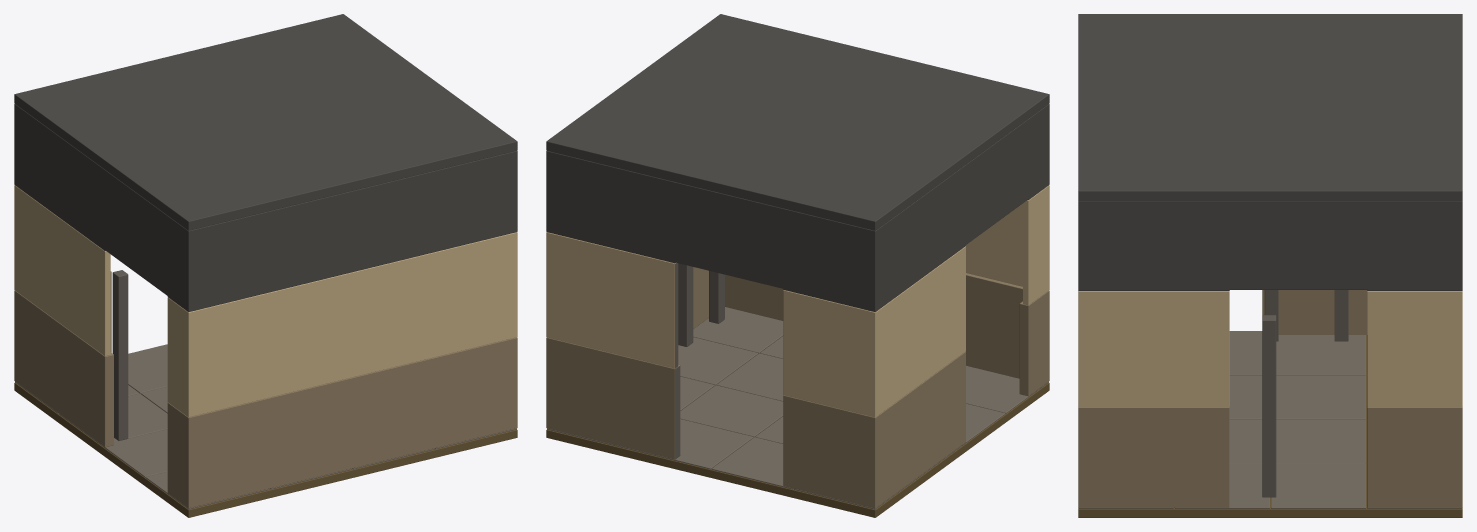
The model's file is gen-servers.glb.
3 renders of one model, left to right at view 1: azimuth 30°, elevation 25°; view 2: azimuth 150°, elevation 25°; view 3: azimuth 270°, elevation 25°, orthographic. The views are drawn at different scales.
Parts seen in each view (by area): view 1: THE SERVERS; view 2: THE SERVERS; view 3: THE SERVERS.
Part boxes in pixels (x1=…): THE SERVERS: x1=14, y1=14, x2=517, y2=517; THE SERVERS: x1=546, y1=14, x2=1049, y2=517; THE SERVERS: x1=1078, y1=14, x2=1462, y2=517.
Bounding box in the file's own units: 3.6 × 3.1 × 3.3.
